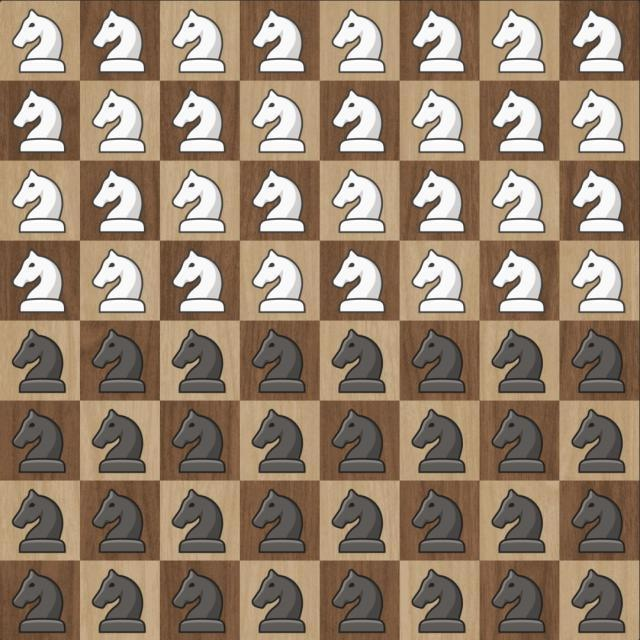black-knight: (12, 328, 66, 393), (172, 329, 226, 394), (253, 329, 307, 394), (572, 329, 626, 394), (572, 408, 626, 473), (492, 409, 546, 474), (252, 409, 306, 474), (173, 408, 227, 473), (12, 409, 66, 474), (13, 489, 67, 554), (172, 488, 226, 553), (252, 489, 306, 554), (572, 489, 626, 554), (572, 569, 626, 634), (492, 569, 546, 634), (252, 568, 306, 633), (172, 568, 226, 633), (93, 569, 147, 634), (12, 569, 66, 634), (93, 328, 146, 393), (333, 329, 386, 394), (412, 329, 465, 394), (492, 329, 545, 394), (412, 409, 465, 474), (333, 409, 386, 474), (93, 408, 146, 473), (93, 489, 146, 554), (333, 489, 386, 554), (412, 489, 465, 554), (492, 488, 545, 553), (412, 569, 465, 634), (333, 569, 386, 634)
white-knight: (572, 9, 626, 74), (572, 89, 626, 154), (572, 168, 626, 233), (572, 248, 626, 313), (252, 9, 306, 74), (172, 9, 226, 74), (93, 9, 147, 74), (12, 8, 66, 73), (173, 89, 227, 154), (252, 89, 306, 154), (252, 169, 306, 234), (172, 169, 226, 234), (12, 168, 66, 233), (13, 249, 67, 314), (172, 249, 226, 314), (252, 249, 306, 314), (12, 89, 66, 153), (492, 8, 545, 73), (412, 9, 465, 74), (333, 9, 386, 74), (332, 89, 385, 154), (492, 89, 545, 154), (492, 168, 545, 233), (413, 169, 466, 234), (332, 168, 385, 233), (332, 248, 385, 313), (412, 249, 465, 314), (492, 249, 545, 314), (93, 168, 146, 233), (93, 249, 146, 314), (413, 89, 466, 153), (93, 89, 146, 153)
